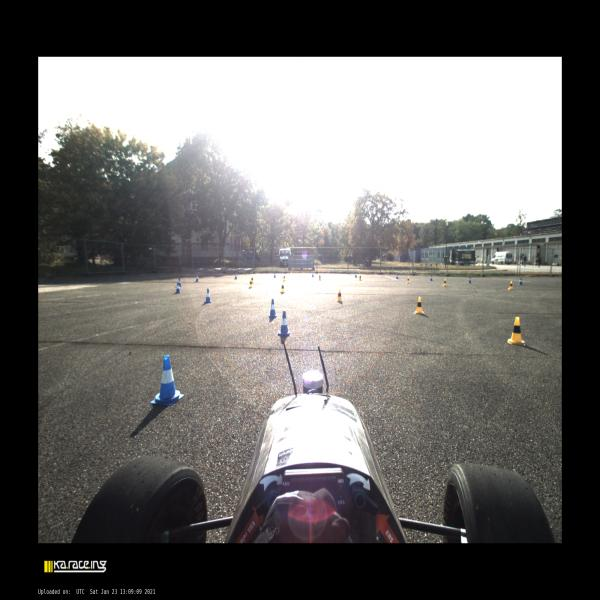blue_cone: (150, 355, 184, 406), (277, 311, 291, 336), (268, 299, 278, 317), (204, 288, 212, 303), (175, 282, 181, 294), (195, 274, 200, 282), (518, 278, 523, 285), (234, 272, 238, 280), (468, 276, 472, 284), (179, 278, 182, 286), (430, 274, 433, 281), (274, 272, 276, 278), (355, 272, 357, 278), (312, 272, 314, 277), (396, 274, 398, 279)
yellow_cone: (508, 317, 525, 345), (414, 297, 424, 314), (336, 289, 342, 302), (280, 282, 285, 294), (248, 279, 253, 289), (508, 280, 513, 290), (442, 278, 446, 286), (406, 276, 410, 283), (251, 276, 254, 283), (359, 274, 362, 281), (283, 275, 285, 282), (319, 274, 321, 281)
